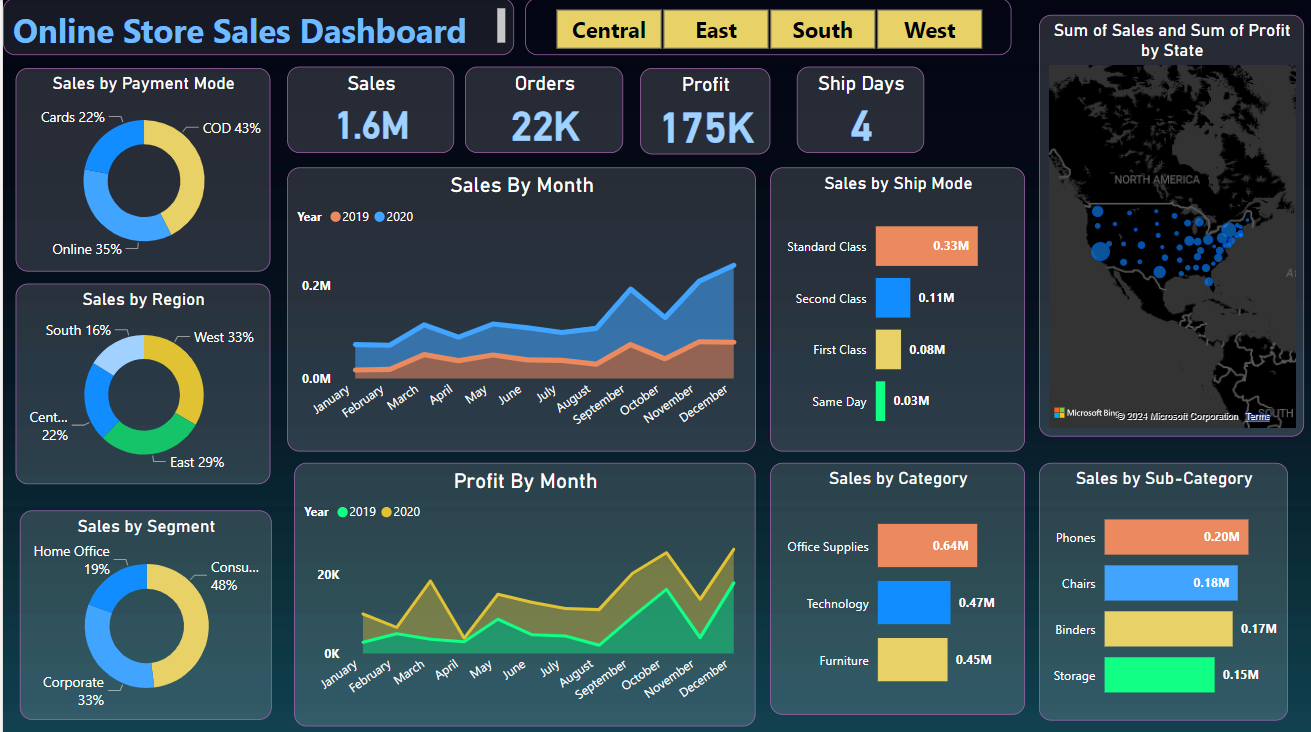

What the dashboard file says about the page in this screenshot:
{"tool":"powerbi","page":{"name":"Page 1","canvas":[1280,720],"ordinal":0},"visuals":[{"type":"clusteredBarChart","title":"Sales by Category","fields":{"Category":["SuperStore_Sales_Dataset.Category"],"Y":["Sum(SuperStore_Sales_Dataset.Sales)"]},"box":[748.6,452.9,248.6,245.7],"z":0},{"type":"clusteredBarChart","title":"Sales by Sub-Category","fields":{"Category":["SuperStore_Sales_Dataset.Sub-Category"],"Y":["Sum(SuperStore_Sales_Dataset.Sales)"]},"box":[1010,452.9,242.9,251.4],"z":1000},{"type":"clusteredBarChart","title":"Sales by Ship Mode","fields":{"Category":["SuperStore_Sales_Dataset.Ship Mode"],"Y":["Sum(SuperStore_Sales_Dataset.Sales)"]},"box":[748.6,165.7,248.6,277.1],"z":2000},{"type":"stackedAreaChart","title":"Sales By Month","fields":{"Category":["SuperStore_Sales_Dataset.Order Date.Variation.Date Hierarchy.Month","SuperStore_Sales_Dataset.Order Date.Variation.Date Hierarchy.Day"],"Y":["Sum(SuperStore_Sales_Dataset.Sales)"],"Series":["SuperStore_Sales_Dataset.Order Date.Variation.Date Hierarchy.Year"]},"box":[277.1,165.7,457.1,277.1],"z":3000},{"type":"stackedAreaChart","title":"Profit By Month","fields":{"Category":["SuperStore_Sales_Dataset.Order Date.Variation.Date Hierarchy.Month","SuperStore_Sales_Dataset.Order Date.Variation.Date Hierarchy.Day"],"Series":["SuperStore_Sales_Dataset.Order Date.Variation.Date Hierarchy.Year"],"Y":["Sum(SuperStore_Sales_Dataset.Profit)"]},"box":[284.3,452.9,450,257.1],"z":4000},{"type":"map","fields":{"Category":["SuperStore_Sales_Dataset.State"],"Size":["Sum(SuperStore_Sales_Dataset.Sales)"]},"box":[1010,15.7,258.6,411.4],"z":5000},{"type":"donutChart","title":"Sales by Segment","fields":{"Category":["SuperStore_Sales_Dataset.Segment"],"Y":["Sum(SuperStore_Sales_Dataset.Sales)"]},"box":[15.7,500,245.7,204.3],"z":6000},{"type":"donutChart","title":"Sales by Payment Mode","fields":{"Category":["SuperStore_Sales_Dataset.Payment Mode"],"Y":["Sum(SuperStore_Sales_Dataset.Sales)"]},"box":[12.9,68.6,248.6,198.6],"z":7000},{"type":"slicer","fields":{"Values":["SuperStore_Sales_Dataset.Region"]},"box":[510,0,474.3,55.7],"z":8000},{"type":"textbox","box":[0,0,498.6,55.7],"z":9000},{"type":"card","title":"Sales","fields":{"Values":["Sum(SuperStore_Sales_Dataset.Sales)"]},"box":[277.1,67.1,162.9,84.3],"z":10000},{"type":"card","title":"Orders","fields":{"Values":["Sum(SuperStore_Sales_Dataset.Quantity)"]},"box":[450,67.1,154.3,84.3],"z":11000},{"type":"card","title":"Profit","fields":{"Values":["Sum(SuperStore_Sales_Dataset.Profit)"]},"box":[621.4,68.6,127.1,84.3],"z":12000},{"type":"card","title":"Ship Days","fields":{"Values":["Avg(SuperStore_Sales_Dataset.Avg Delivery)"]},"box":[774.3,67.1,124.3,84.3],"z":13000},{"type":"donutChart","title":"Sales by Region","fields":{"Category":["SuperStore_Sales_Dataset.Region"],"Y":["Sum(SuperStore_Sales_Dataset.Sales)"]},"box":[12.9,278.6,248.6,195.7],"z":14000}]}

Visuals, with their boxes in screenshot pixels (x1, y1, x2, y2), scaled from the page's 1280x720 canvas onto the 1311x732 screenshot:
"Sales by Category" clusteredBarChart: pyautogui.locateOnScreen(767, 460, 1021, 710)
"Sales by Sub-Category" clusteredBarChart: pyautogui.locateOnScreen(1034, 460, 1283, 716)
"Sales by Ship Mode" clusteredBarChart: pyautogui.locateOnScreen(767, 168, 1021, 450)
"Sales By Month" stackedAreaChart: pyautogui.locateOnScreen(284, 168, 752, 450)
"Profit By Month" stackedAreaChart: pyautogui.locateOnScreen(291, 460, 752, 722)
map - SuperStore_Sales_Dataset.State x Sum(SuperStore_Sales_Dataset.Sales): pyautogui.locateOnScreen(1034, 16, 1299, 434)
"Sales by Segment" donutChart: pyautogui.locateOnScreen(16, 508, 268, 716)
"Sales by Payment Mode" donutChart: pyautogui.locateOnScreen(13, 70, 268, 272)
slicer - SuperStore_Sales_Dataset.Region: pyautogui.locateOnScreen(522, 0, 1008, 57)
textbox: pyautogui.locateOnScreen(0, 0, 511, 57)
"Sales" card: pyautogui.locateOnScreen(284, 68, 451, 154)
"Orders" card: pyautogui.locateOnScreen(461, 68, 619, 154)
"Profit" card: pyautogui.locateOnScreen(636, 70, 767, 155)
"Ship Days" card: pyautogui.locateOnScreen(793, 68, 920, 154)
"Sales by Region" donutChart: pyautogui.locateOnScreen(13, 283, 268, 482)
